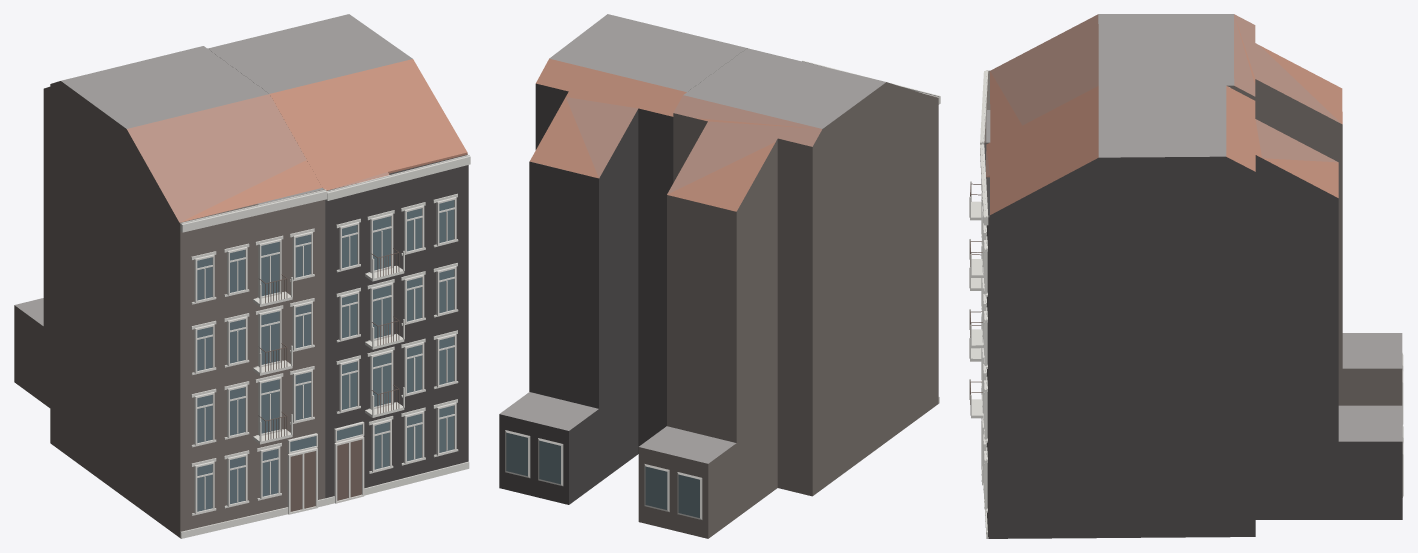
File: chunk-face-pretorius-71-95-r2.glb
The picture shows the model from 3 angles, left to right: view 1: azimuth 30°, elevation 25°; view 2: azimuth 150°, elevation 25°; view 3: azimuth 270°, elevation 25°; orthographic projection. The views are drawn at different scales.
Visible parts, largest first — view 1: face-pretorius-71-95-r2; view 2: face-pretorius-71-95-r2; view 3: face-pretorius-71-95-r2.
Boxes of the visible parts, bbox=[...] form: face-pretorius-71-95-r2: bbox=[14, 14, 470, 538]; face-pretorius-71-95-r2: bbox=[499, 14, 940, 538]; face-pretorius-71-95-r2: bbox=[969, 14, 1403, 538].
Bounding box in the file's own units: 13.73 × 16.84 × 17.42.
